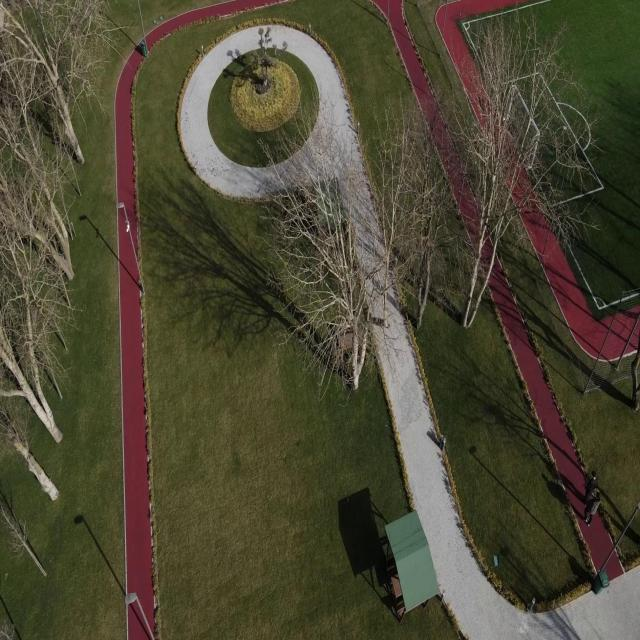p3rson: (582, 491, 601, 527), (582, 470, 598, 507)
